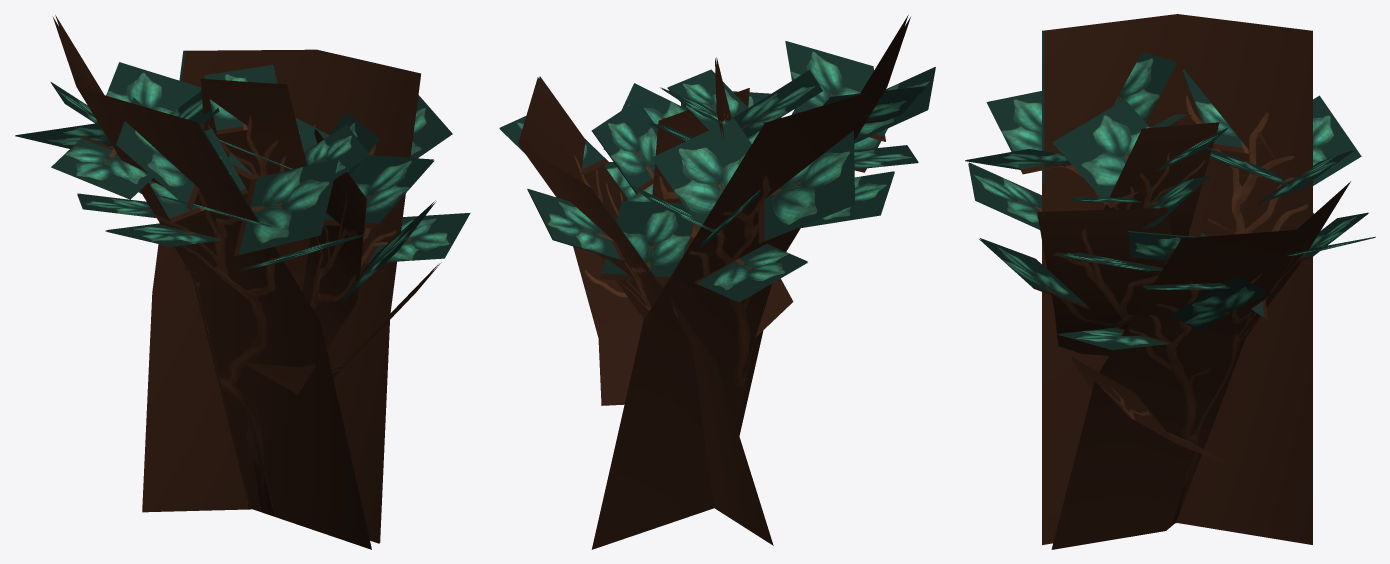
Rendered from bush_02a.fbx.
3 views of the same model, side by side, from view 1: azimuth 30°, elevation 25°; view 2: azimuth 150°, elevation 25°; view 3: azimuth 270°, elevation 25° (orthographic). The views are drawn at different scales.
Visible parts, largest first — view 1: bush_02a; view 2: bush_02a; view 3: bush_02a.
Part boxes in pixels (x1,y1,x2,y2): bush_02a: (15, 15, 470, 549); bush_02a: (499, 15, 935, 549); bush_02a: (965, 14, 1375, 549).
Size of the model in its own units: 6.81 by 7.78 by 6.66.
